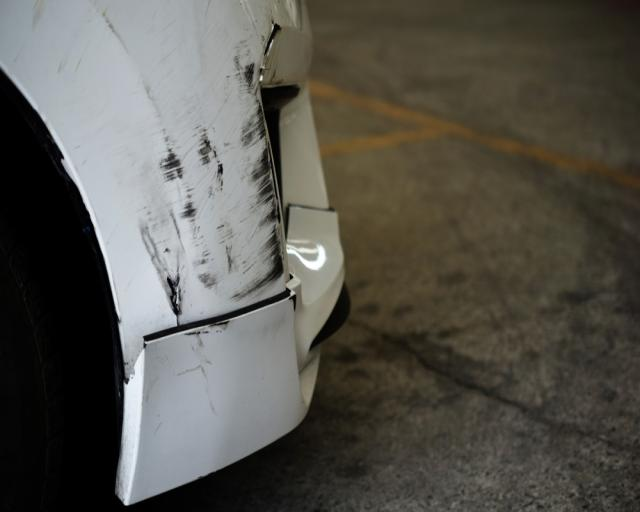scratch: (130, 4, 287, 324), (184, 320, 236, 416)
